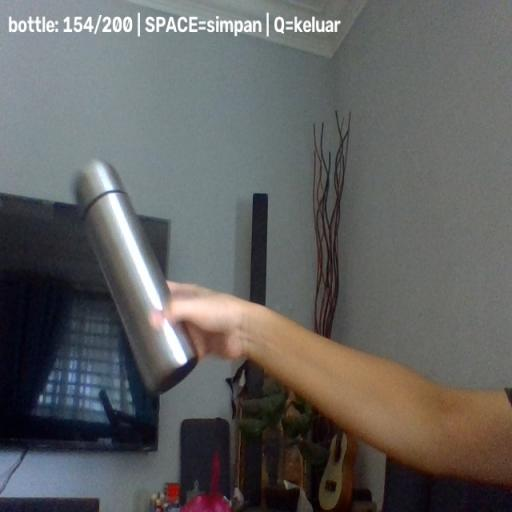Bottle: (73, 158, 198, 396)
